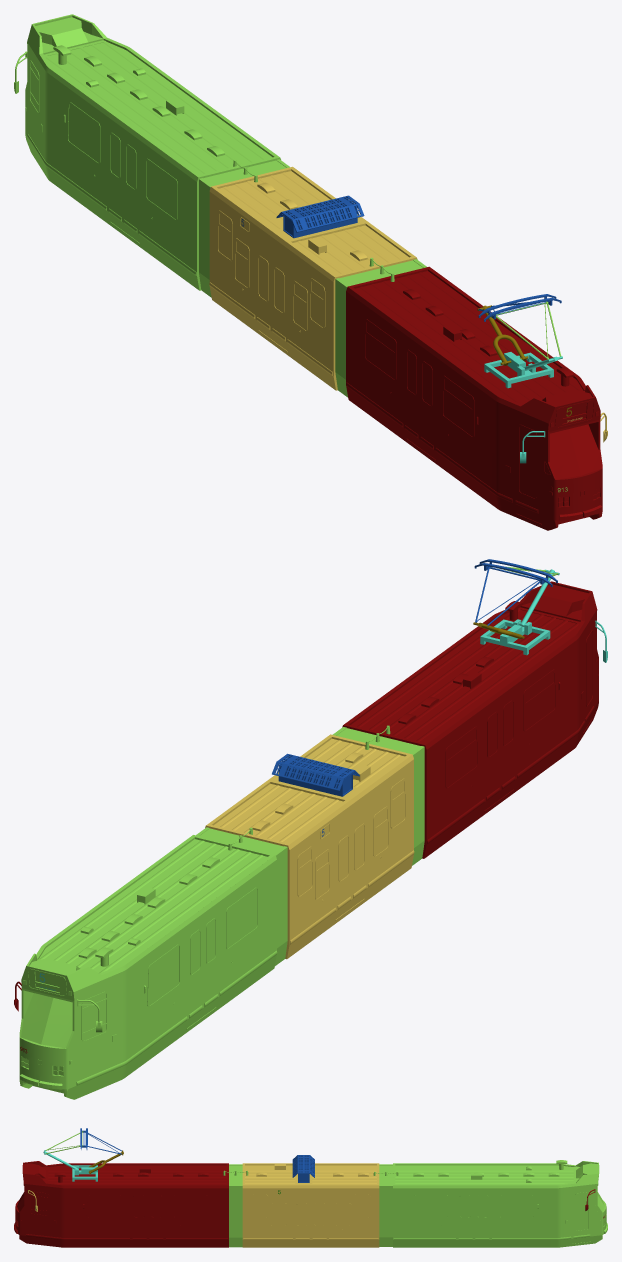
3 views of the same model, one above another, from view 1: azimuth 30°, elevation 25°; view 2: azimuth 150°, elevation 25°; view 3: azimuth 270°, elevation 25° (orthographic). The views are drawn at different scales.
Parts seen in each view (by area): view 1: Group_018, Group_020, Group_014, Layer0_001, Group_016, Group_012, Group_010; view 2: Group_020, Group_018, Group_014, Layer0_001, Group_016, Group_012, Group_010; view 3: Group_020, Group_018, Group_014, Layer0_001, Group_016, Group_012.
Part boxes in pixels (box(x1,y1,x2,y2)): Group_018: box(346, 266, 602, 530); Group_020: box(25, 14, 280, 290); Group_014: box(209, 166, 417, 390); Layer0_001: box(199, 159, 426, 397); Group_016: box(276, 195, 364, 238); Group_012: box(484, 352, 553, 388); Group_010: box(478, 294, 561, 321); Group_020: box(19, 835, 277, 1099); Group_018: box(342, 581, 598, 858); Group_014: box(205, 734, 414, 959); Layer0_001: box(196, 725, 424, 965); Group_016: box(272, 753, 359, 796); Group_012: box(480, 619, 550, 655); Group_010: box(474, 559, 557, 586); Group_020: box(393, 1160, 607, 1247); Group_018: box(14, 1161, 228, 1247); Group_014: box(242, 1163, 379, 1247); Layer0_001: box(223, 1164, 398, 1247); Group_016: box(292, 1155, 314, 1182); Group_012: box(72, 1165, 97, 1181).
Size of the model in its own units: 2540 by 5048 by 25924.
